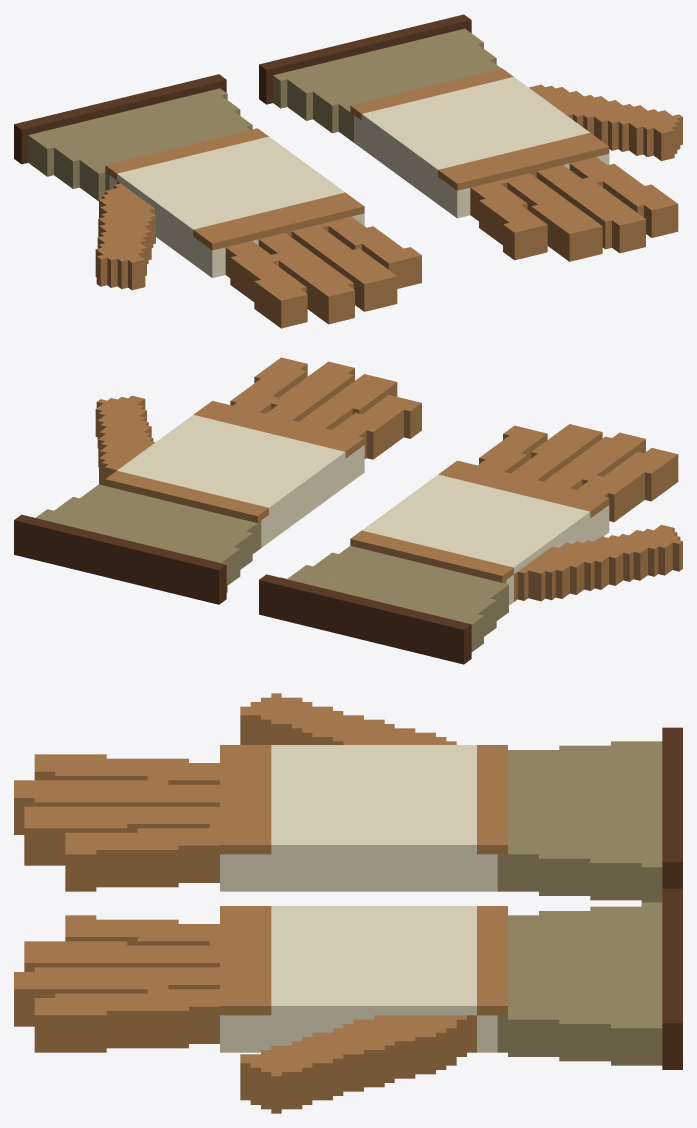
The model's file is gloves_work.glb.
3 views of the same model, one above another, from view 1: azimuth 30°, elevation 25°; view 2: azimuth 150°, elevation 25°; view 3: azimuth 270°, elevation 25° (orthographic). The views are drawn at different scales.
Parts seen in each view (by area): view 1: gloves_work:compound; view 2: gloves_work:compound; view 3: gloves_work:compound.
Boxes of the visible parts, left/top/right/bottom form: gloves_work:compound: left=14, top=14, right=682, bottom=328; gloves_work:compound: left=14, top=357, right=682, bottom=664; gloves_work:compound: left=14, top=693, right=682, bottom=1113.
Bounding box in the file's own units: 0.352 × 0.02 × 0.26.
